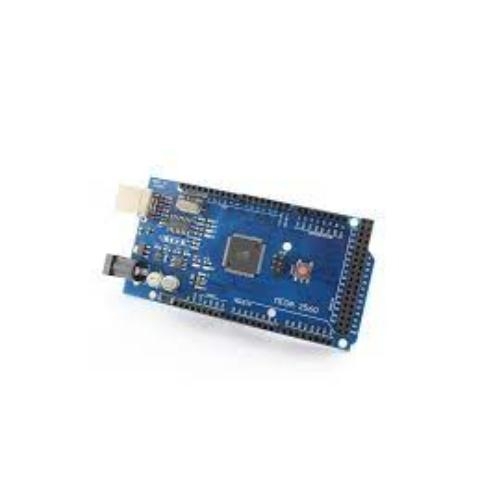Arduino-Mega: (95, 170, 383, 362)
